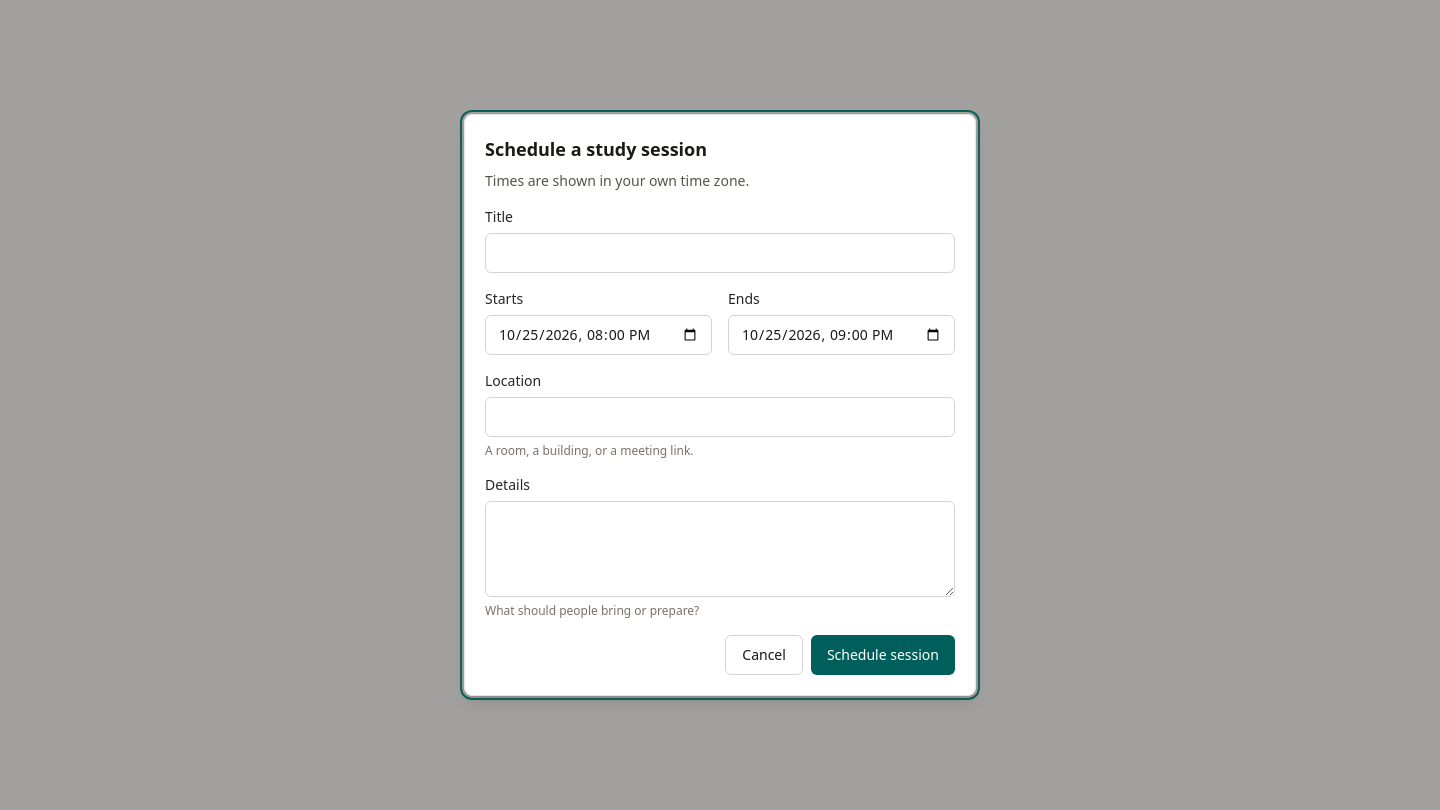
SessionFormDialog › rejects a session longer than a day
The image size is (1440, 810).
Type "Marathon" into the field labelled "Title" at (720, 253), box top-left (485, 233), bottom-right (955, 273)
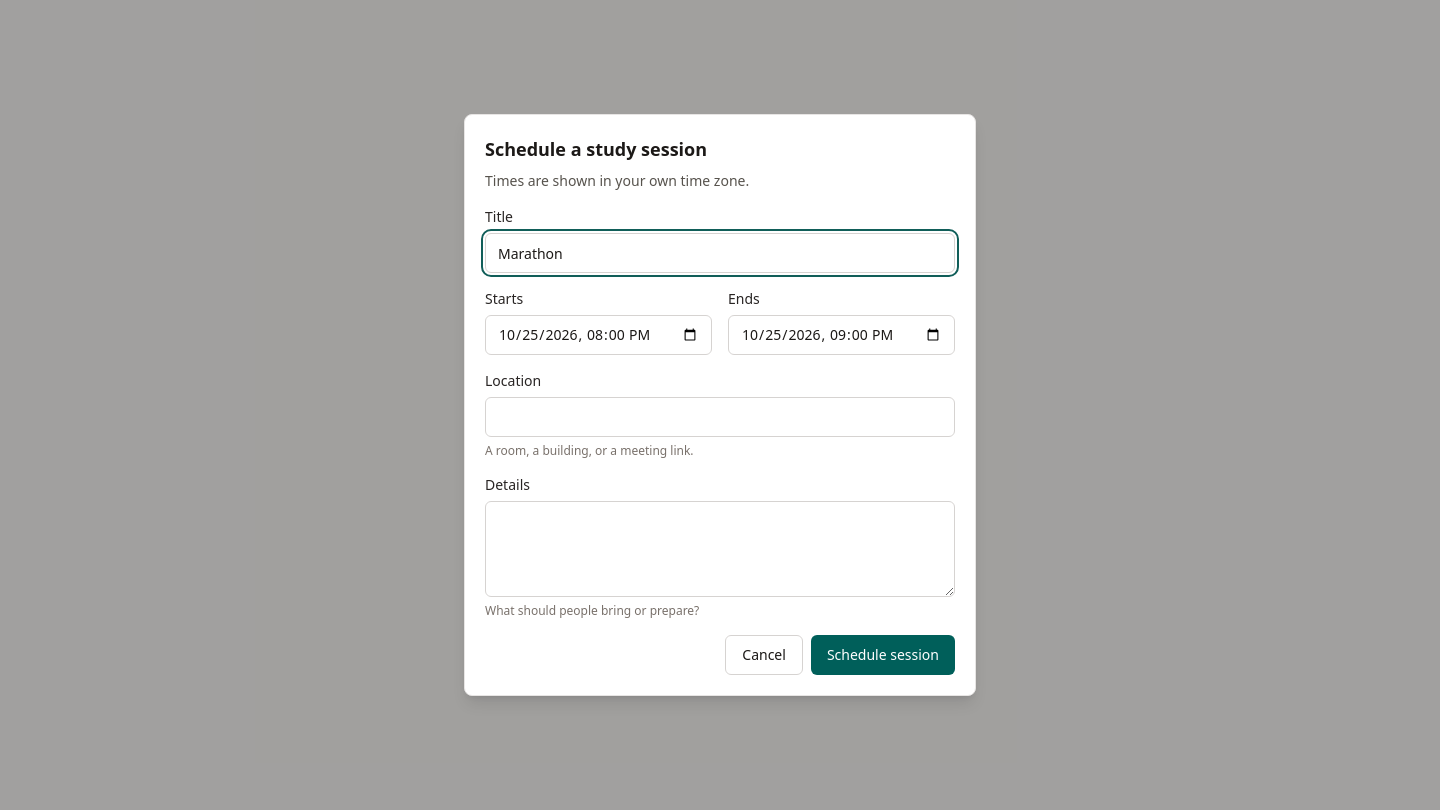
Replace the text in the field labelled "Starts" with "2026-11-12T09:00" at (598, 335), box top-left (485, 315), bottom-right (712, 355)
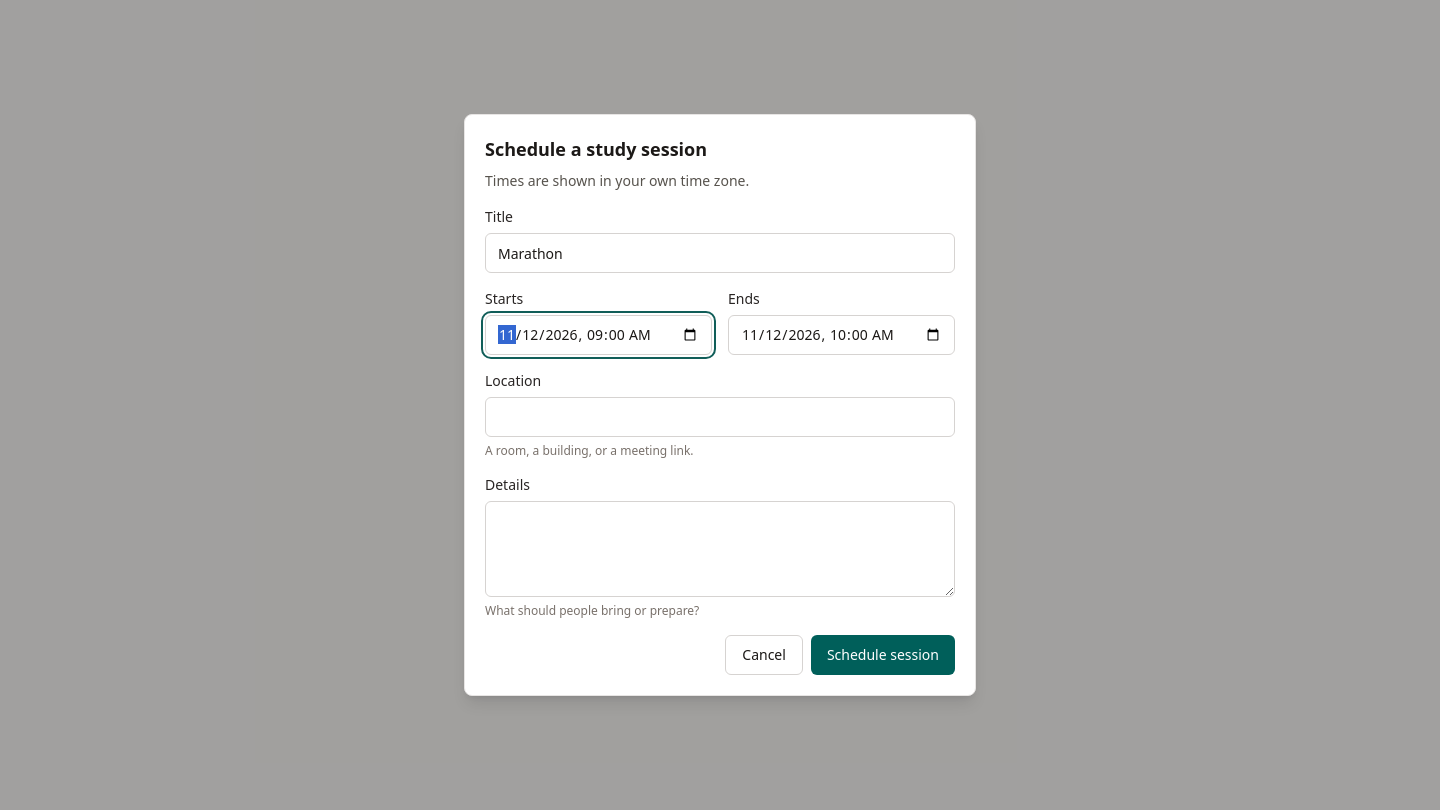
Replace the text in the field labelled "Ends" with "2026-11-20T09:00" at (842, 335), box top-left (728, 315), bottom-right (955, 355)
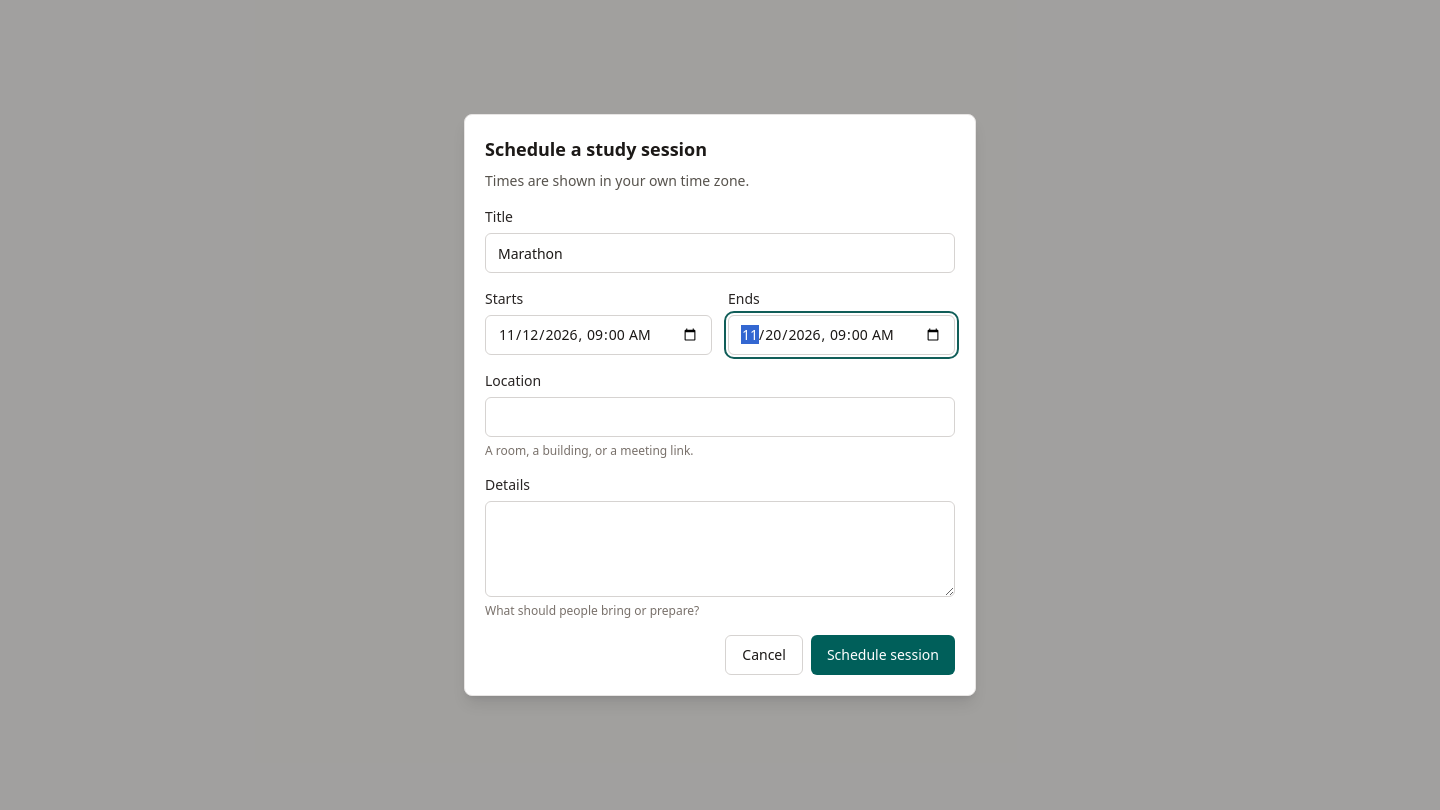
Click the button "Schedule session" at (883, 655), box top-left (811, 635), bottom-right (955, 675)
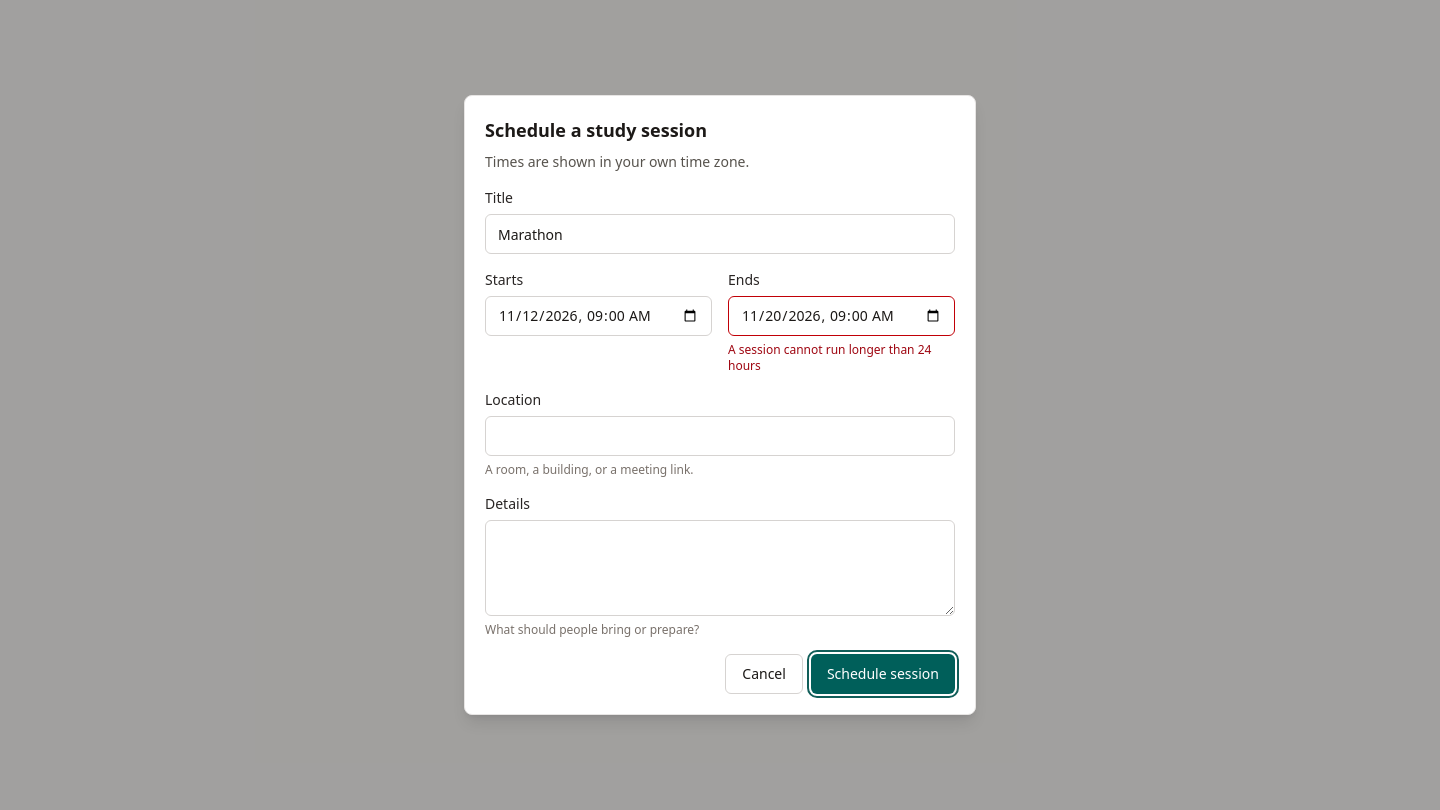
Expected: the text "A session cannot run longer than 24 hours" is shown, top-left (728, 342), bottom-right (955, 374)
